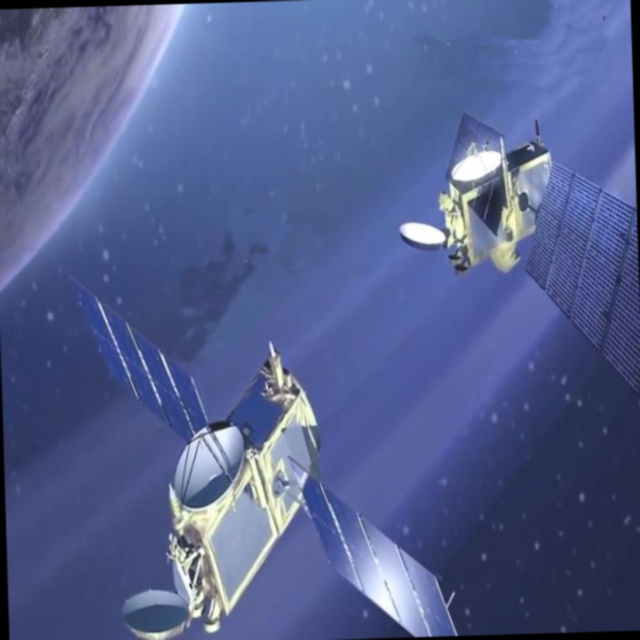satellite: (0, 272, 465, 640), (387, 59, 640, 436)
